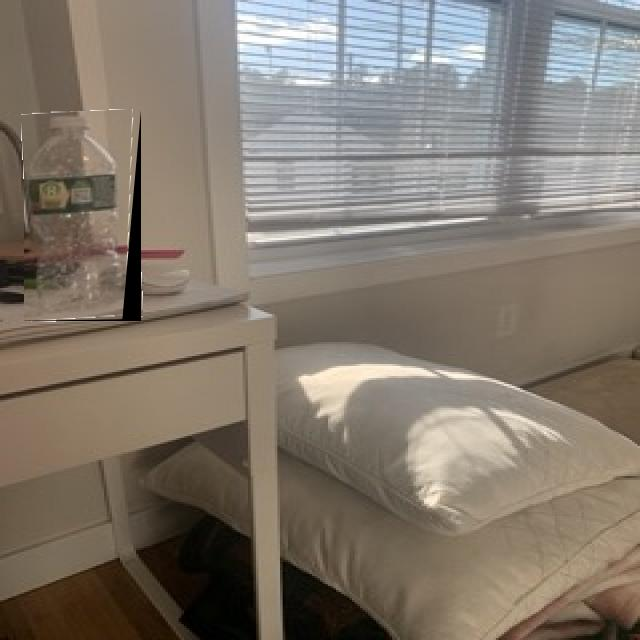water_bottle: (24, 111, 141, 321)
